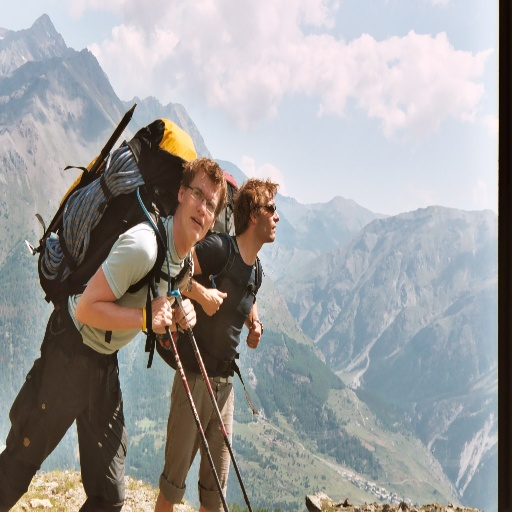hand: (171, 297, 197, 332), (152, 295, 174, 333), (200, 287, 227, 317), (245, 319, 262, 349)
